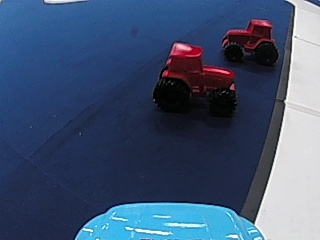tractor: (149, 41, 239, 117), (220, 16, 280, 65)
